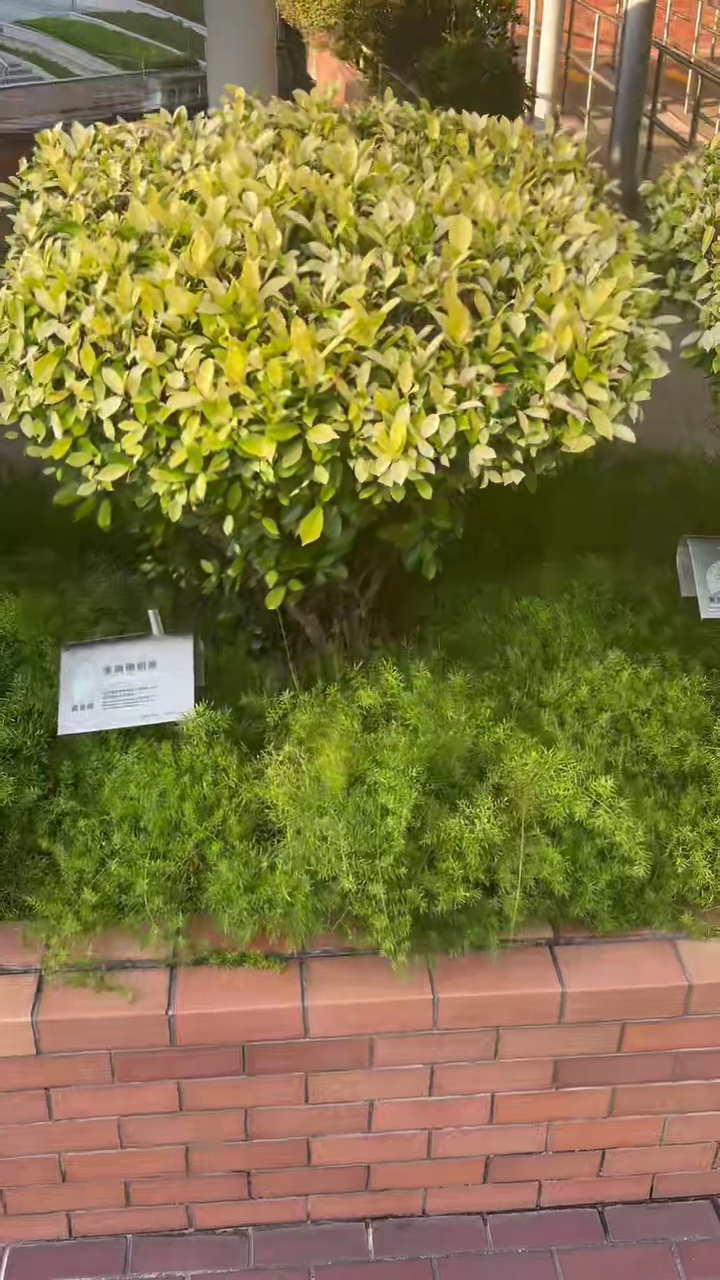Golden-leaves Fig: (0, 91, 669, 610)
